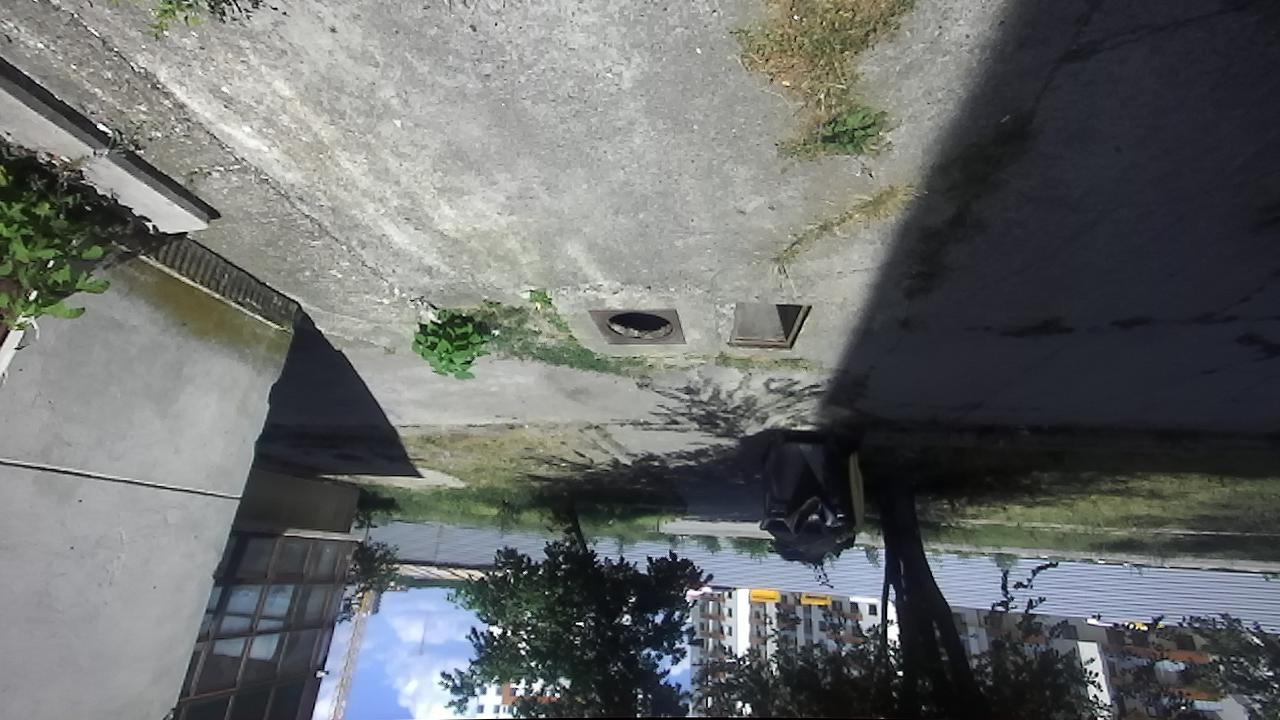drain: (722, 299, 815, 350), (600, 311, 677, 345)
